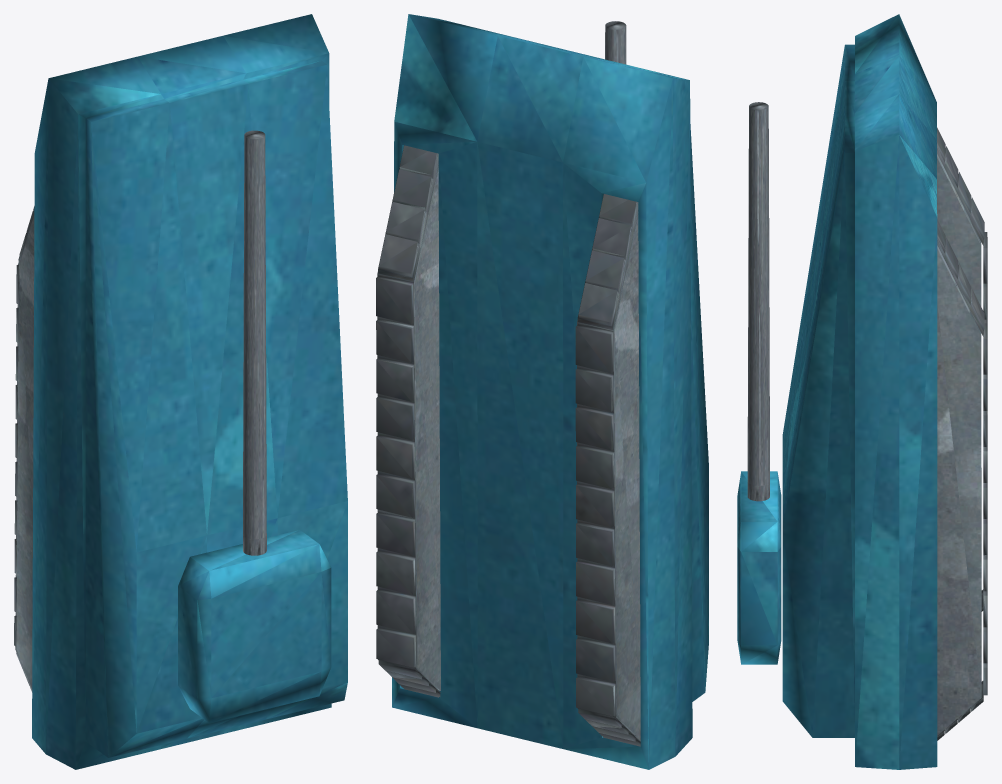
File: tank.fbx
The picture shows the model from 3 angles, left to right: view 1: azimuth 30°, elevation 25°; view 2: azimuth 150°, elevation 25°; view 3: azimuth 270°, elevation 25°; orthographic projection. The views are drawn at different scales.
Visible parts, largest first — view 1: 3DSMesh_2; view 2: 3DSMesh_2; view 3: 3DSMesh_2.
Part boxes in pixels (x1,y1,x2,y2): 3DSMesh_2: [14, 14, 347, 769]; 3DSMesh_2: [376, 14, 708, 769]; 3DSMesh_2: [737, 14, 987, 769].
Bounding box in the file's own units: 2.1 × 5.04 × 1.8.
